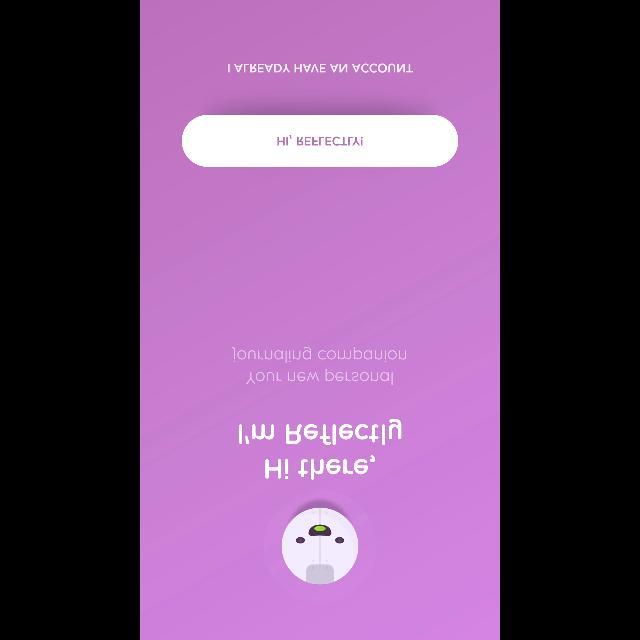image: (282, 508, 358, 584)
text: (238, 418, 402, 479), (232, 346, 406, 386), (228, 64, 412, 72)
textbutton: (182, 115, 458, 167)
